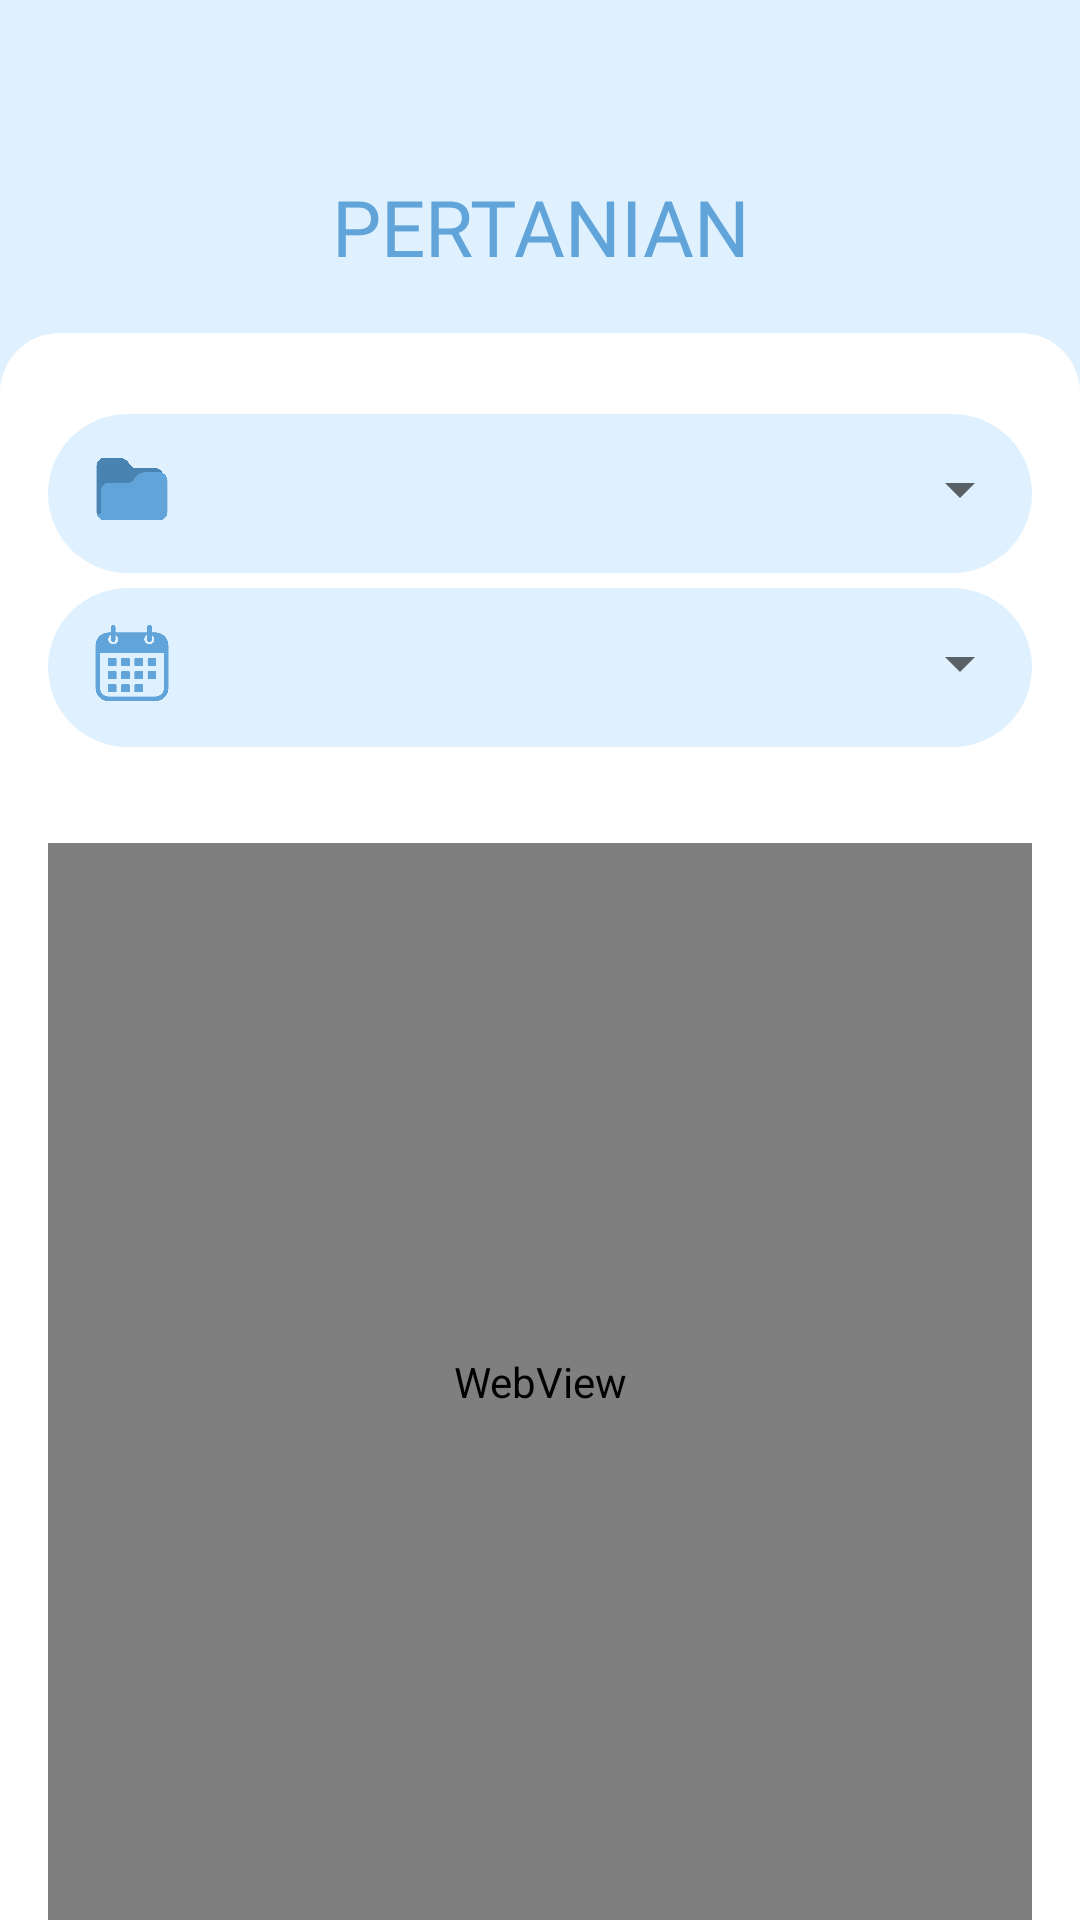

Where icons sit on this 1080*1920 app screen, as box(x1, y1, x2, y2):
date: box(95, 625, 169, 701)
